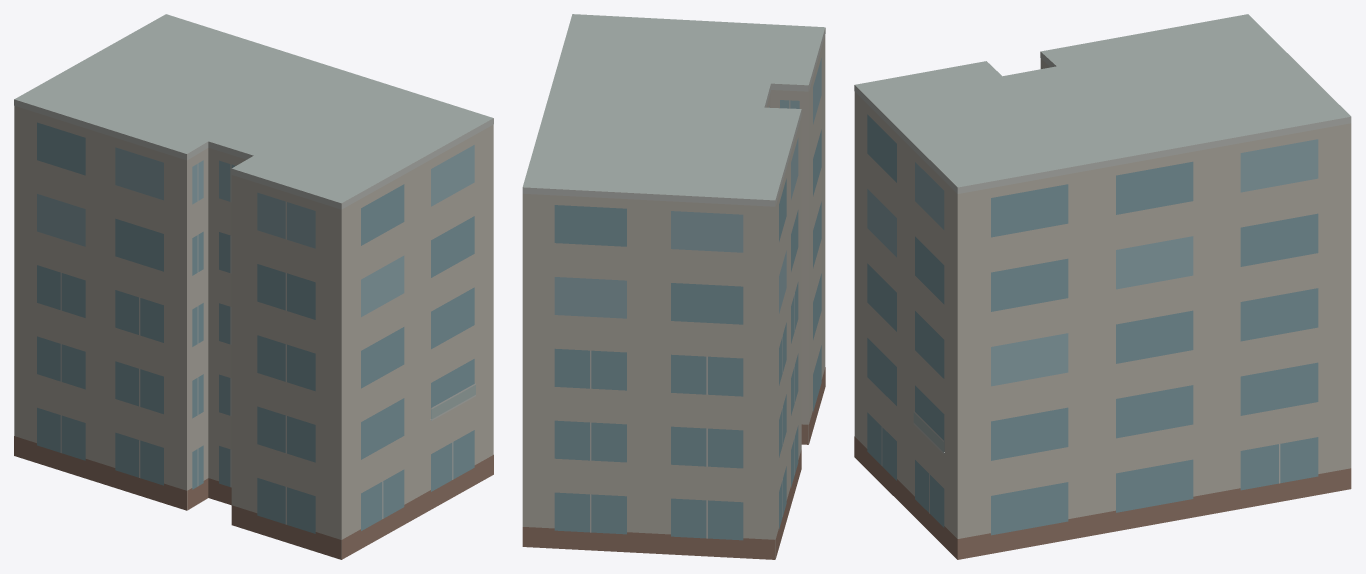
File: survey-upis-32955202.glb
3 views of the same model, side by side, from view 1: azimuth 30°, elevation 25°; view 2: azimuth 150°, elevation 25°; view 3: azimuth 270°, elevation 25° (orthographic). The views are drawn at different scales.
Parts seen in each view (by area): view 1: survey-upis-32955202.tmp; view 2: survey-upis-32955202.tmp; view 3: survey-upis-32955202.tmp.
Part boxes in pixels (x1=…): survey-upis-32955202.tmp: x1=14, y1=14, x2=493, y2=559; survey-upis-32955202.tmp: x1=522, y1=14, x2=825, y2=559; survey-upis-32955202.tmp: x1=854, y1=14, x2=1351, y2=559.
Size of the model in its own units: 13.8 by 13.8 by 16.7.
